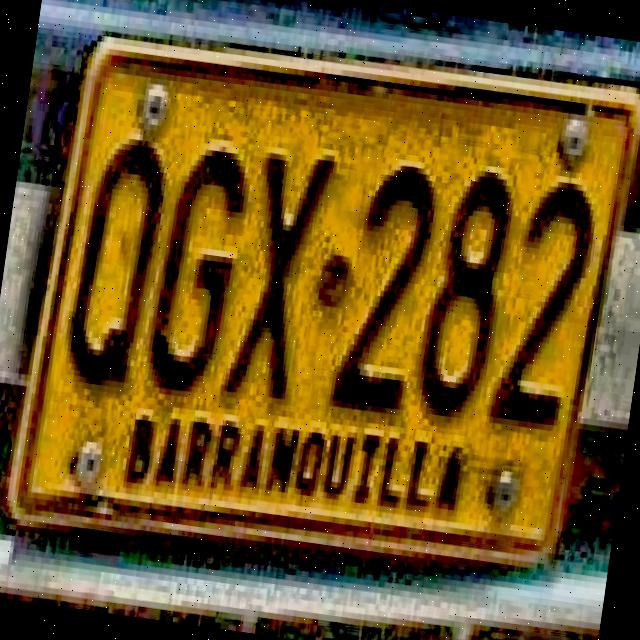2: (324, 157, 453, 421), (484, 171, 607, 444)
8: (411, 162, 525, 431)
G: (138, 144, 259, 403)
Q: (57, 129, 183, 395)
X: (217, 151, 343, 408)
